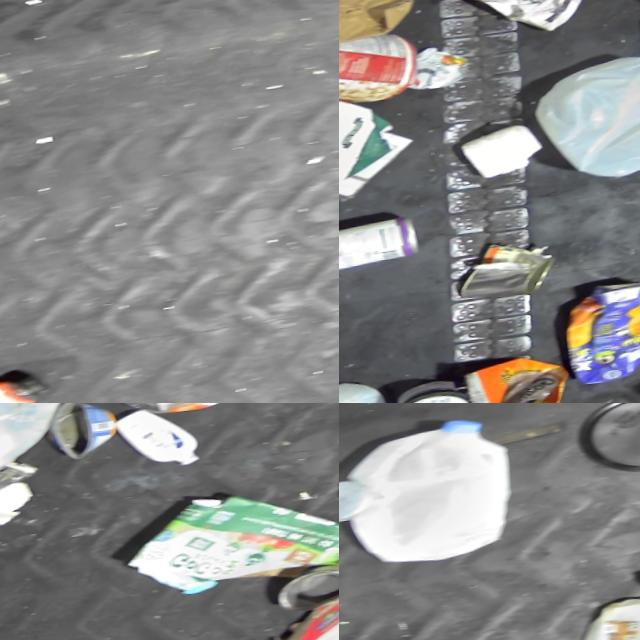can: (454, 243, 556, 310), (339, 217, 421, 279), (43, 403, 118, 466), (271, 570, 339, 621)
milk_jug: (339, 417, 516, 575), (529, 53, 640, 199), (0, 403, 83, 493)
non_white_jug: (561, 285, 640, 396)
